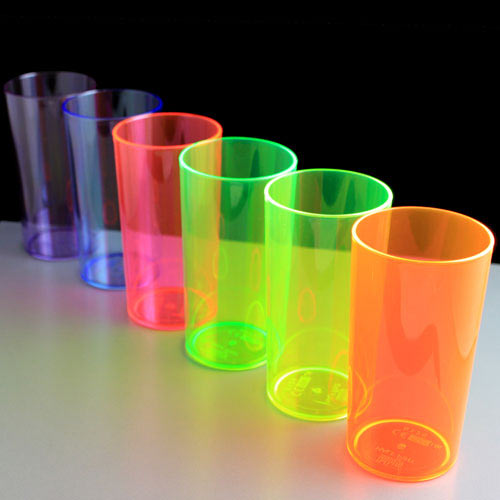plastic_glass: (344, 206, 500, 488)
